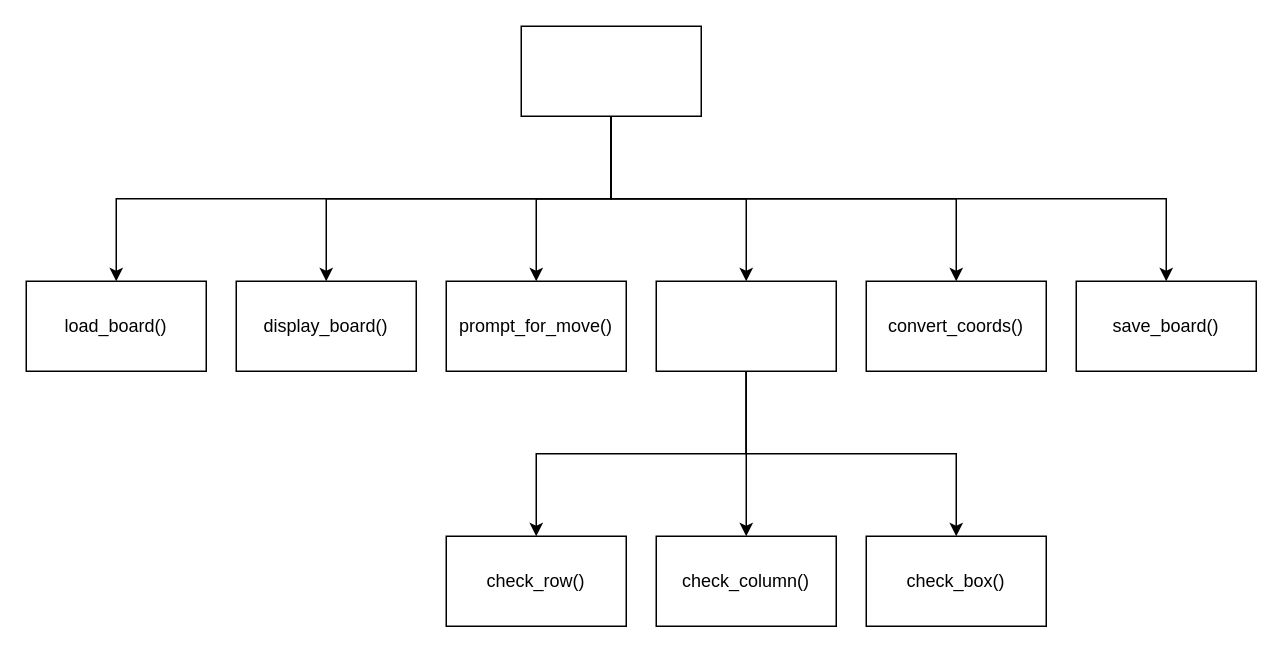
This 1283x653 diagram has some shape labels left out. The centre of each missing label's shape, as x and y in pixels:
Main(): the point at 610,70
validate_move(): the point at 745,325
